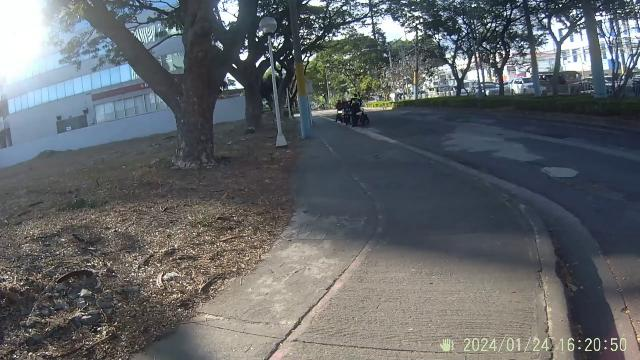lamp_post: (256, 14, 284, 142)
utility_post: (292, 29, 314, 140)
